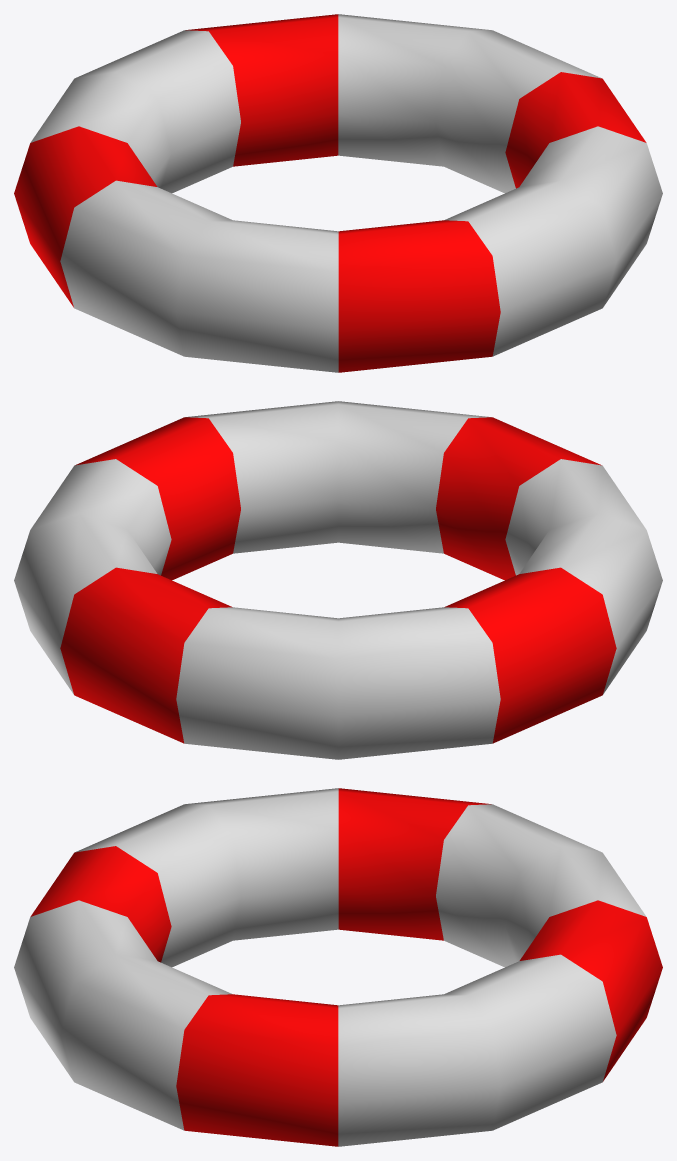
Rendered from ukiwa.FBX.
The picture shows the model from 3 angles, top to bottom: view 1: azimuth 30°, elevation 25°; view 2: azimuth 150°, elevation 25°; view 3: azimuth 270°, elevation 25°; orthographic projection.
Parts seen in each view (by area): view 1: Tube001; view 2: Tube001; view 3: Tube001.
Boxes of the visible parts, x1,y1,x2,y2 form: Tube001: (14,14,662,372); Tube001: (14,401,662,759); Tube001: (14,788,662,1146).
Bounding box in the file's own units: 170 × 39.37 × 172.
